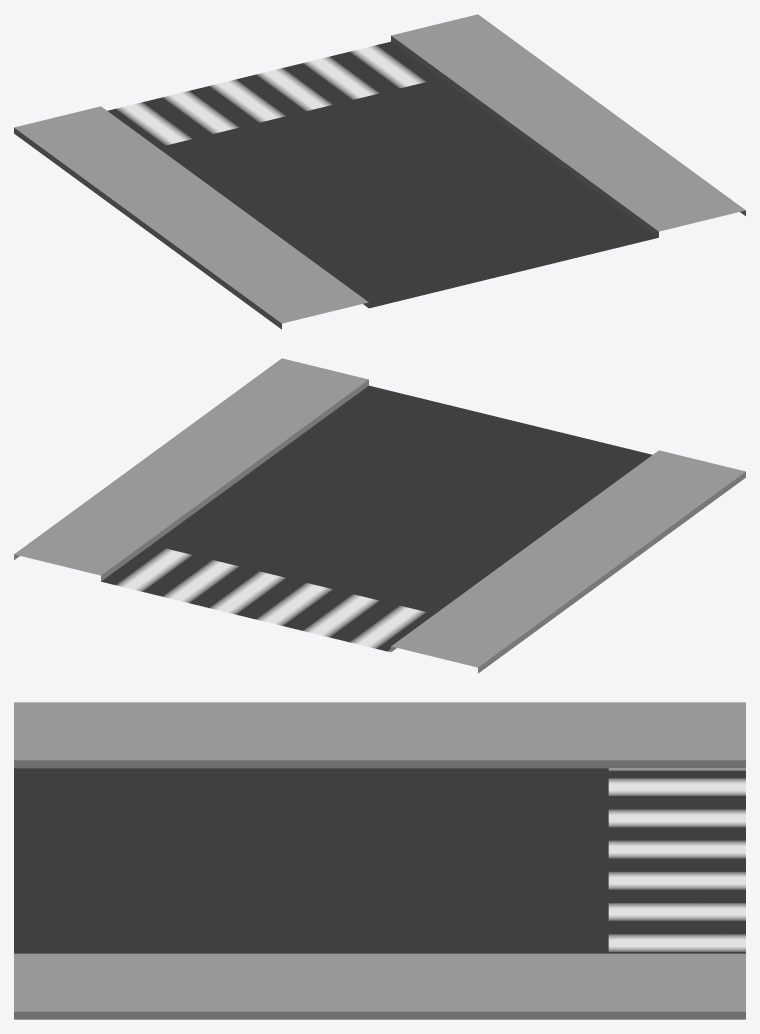
File: Road_Straight_Cross.obj
3 views of the same model, one above another, from view 1: azimuth 30°, elevation 25°; view 2: azimuth 150°, elevation 25°; view 3: azimuth 270°, elevation 25° (orthographic). The views are drawn at different scales.
Parts seen in each view (by area): view 1: Road_Straight_Cross_Plane.004; view 2: Road_Straight_Cross_Plane.004; view 3: Road_Straight_Cross_Plane.004.
Part boxes in pixels (x1,y1,x2,y2): Road_Straight_Cross_Plane.004: (14, 14, 745, 329); Road_Straight_Cross_Plane.004: (14, 358, 745, 673); Road_Straight_Cross_Plane.004: (14, 702, 745, 1019).
Size of the model in its own units: 16 by 0.2 by 16.
1 material, 1 textured.
